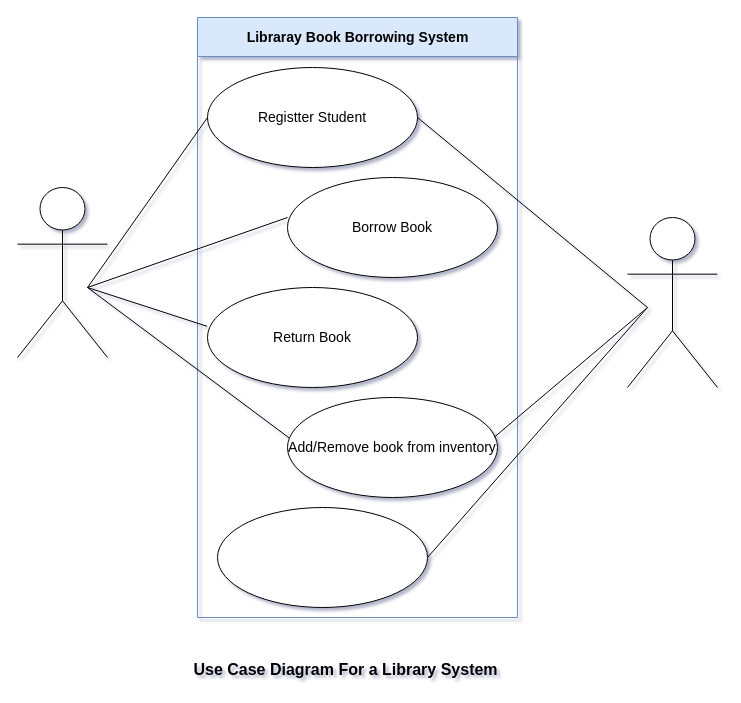
Image size: 741x703. Some labels were removed from this diagram. The shapes that lost their labels are listed below. From the top down, each one's centre as x and y in pixels, then its label:
[62,272]: Student
[672,302]: Librarian
[322,557]: View Borrowed Books
